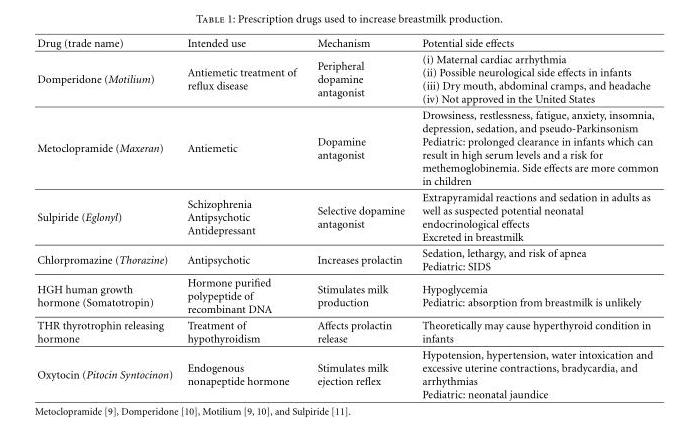table: (36, 36, 657, 400)
table column: (412, 36, 657, 400), (36, 36, 179, 400), (179, 36, 306, 400), (306, 36, 412, 400)
table column header: (36, 36, 657, 50)
table row: (36, 106, 657, 188), (36, 50, 657, 106), (36, 188, 657, 244), (36, 346, 657, 400), (36, 274, 657, 316), (36, 244, 657, 274), (36, 316, 657, 346), (36, 36, 657, 50)
